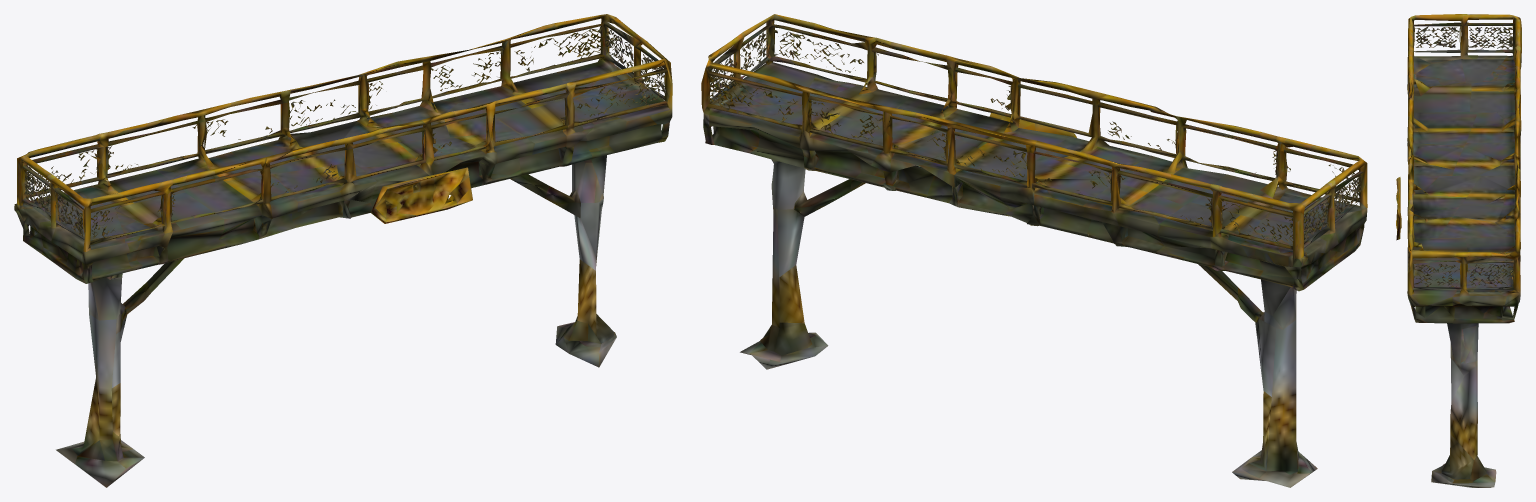
File: veh-d-walkway.glb
3 views of the same model, side by side, from view 1: azimuth 30°, elevation 25°; view 2: azimuth 150°, elevation 25°; view 3: azimuth 270°, elevation 25° (orthographic). The views are drawn at different scales.
Visible parts, largest first — view 1: tripo_node_86eeb2eb-85d8-4368-bc7f-502337fba83a; view 2: tripo_node_86eeb2eb-85d8-4368-bc7f-502337fba83a; view 3: tripo_node_86eeb2eb-85d8-4368-bc7f-502337fba83a.
Boxes of the visible parts, x1=… form: tripo_node_86eeb2eb-85d8-4368-bc7f-502337fba83a: x1=14, y1=14, x2=672, y2=487; tripo_node_86eeb2eb-85d8-4368-bc7f-502337fba83a: x1=701, y1=14, x2=1367, y2=487; tripo_node_86eeb2eb-85d8-4368-bc7f-502337fba83a: x1=1396, y1=14, x2=1521, y2=487.
Bounding box in the file's own units: 0.9784 × 0.4789 × 0.2147.
1 material, 1 textured.
